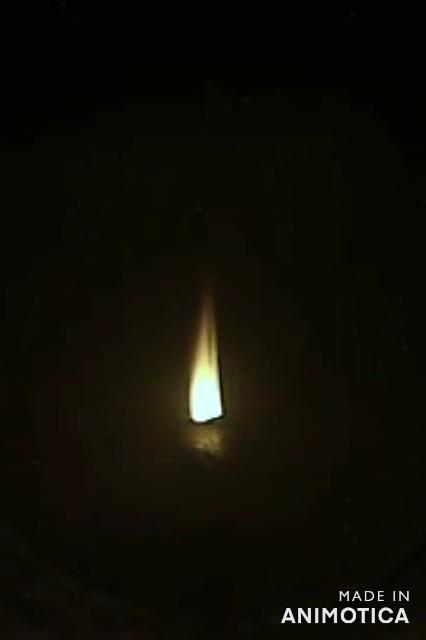burner flame: (185, 289, 227, 427)
